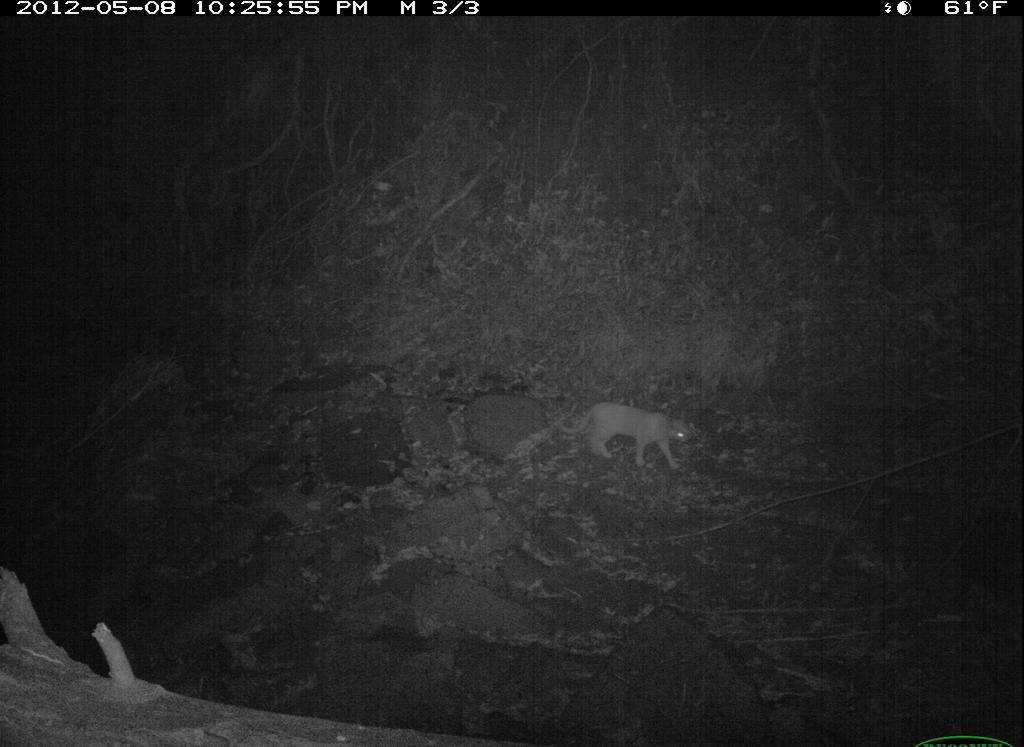cat: (555, 390, 725, 500)
